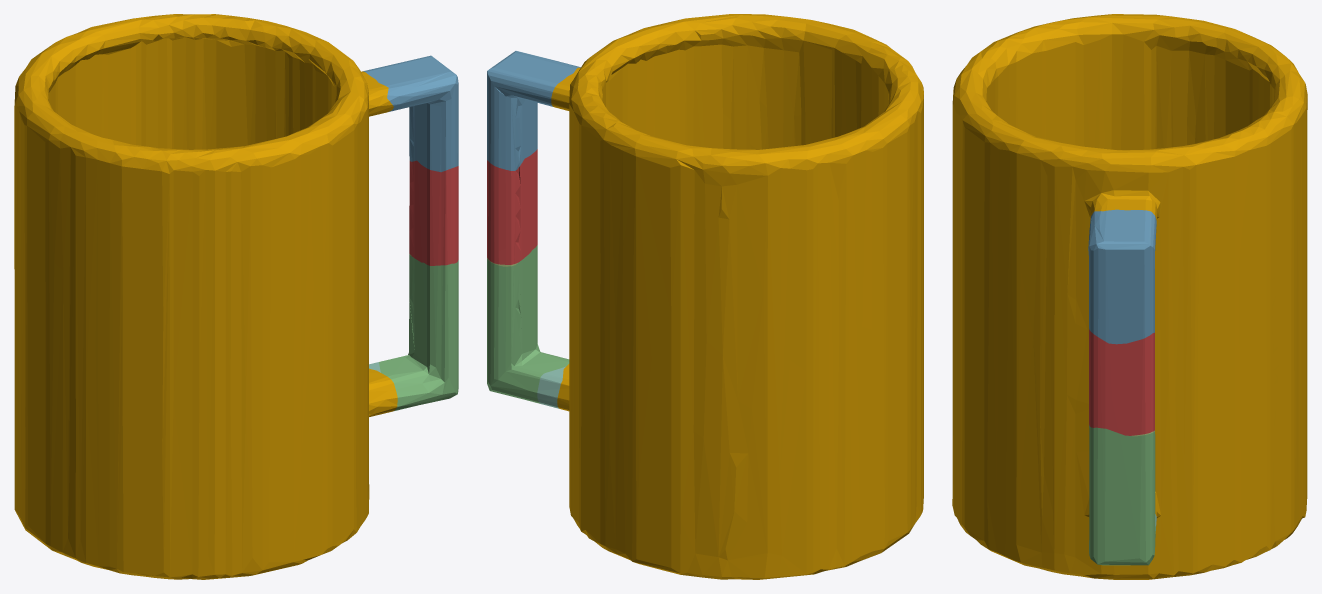
The model's file is fractured_48_6pcs.glb.
The picture shows the model from 3 angles, left to right: view 1: azimuth 30°, elevation 25°; view 2: azimuth 150°, elevation 25°; view 3: azimuth 270°, elevation 25°; orthographic projection.
Visible parts, largest first — view 1: piece_0.obj, piece_3.obj, piece_2.obj, piece_1.obj; view 2: piece_0.obj, piece_3.obj, piece_2.obj, piece_1.obj, piece_4.obj; view 3: piece_0.obj, piece_3.obj, piece_2.obj, piece_1.obj.
Boxes of the visible parts, x1=… form: piece_0.obj: x1=14, y1=14, x2=397, y2=579; piece_3.obj: x1=379, y1=255, x2=458, y2=410; piece_2.obj: x1=363, y1=55, x2=458, y2=172; piece_1.obj: x1=409, y1=160, x2=458, y2=265; piece_0.obj: x1=551, y1=14, x2=923, y2=579; piece_3.obj: x1=487, y1=245, x2=569, y2=403; piece_2.obj: x1=487, y1=51, x2=580, y2=170; piece_1.obj: x1=487, y1=149, x2=537, y2=264; piece_4.obj: x1=537, y1=366, x2=565, y2=408; piece_0.obj: x1=952, y1=14, x2=1307, y2=579; piece_3.obj: x1=1089, y1=425, x2=1155, y2=565; piece_2.obj: x1=1088, y1=209, x2=1156, y2=344; piece_1.obj: x1=1089, y1=329, x2=1154, y2=435.
Size of the model in its own units: 0.9993 by 1 by 0.7582.
